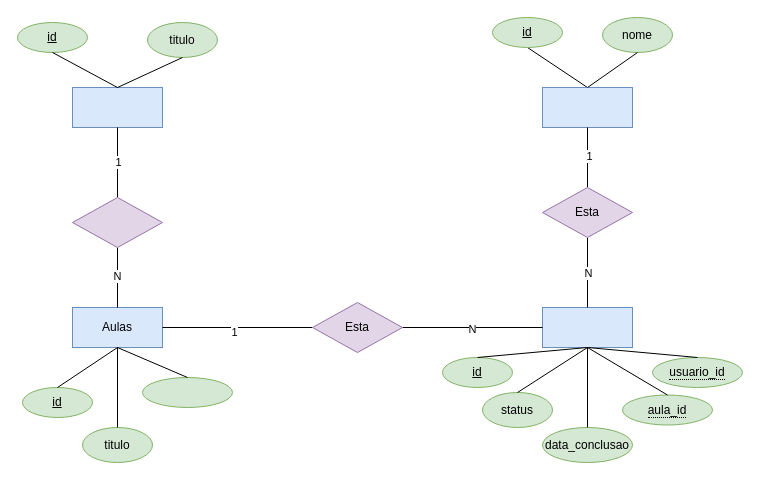
Image size: 760x480. Some labels were removed from this diagram. Here are the shapes that lost their labels. From the top down, the centre of each, then its label:
[117,107]: Cursos
[587,107]: Usuarios
[117,222]: possui
[587,327]: Progresso
[187,392]: curso_id
